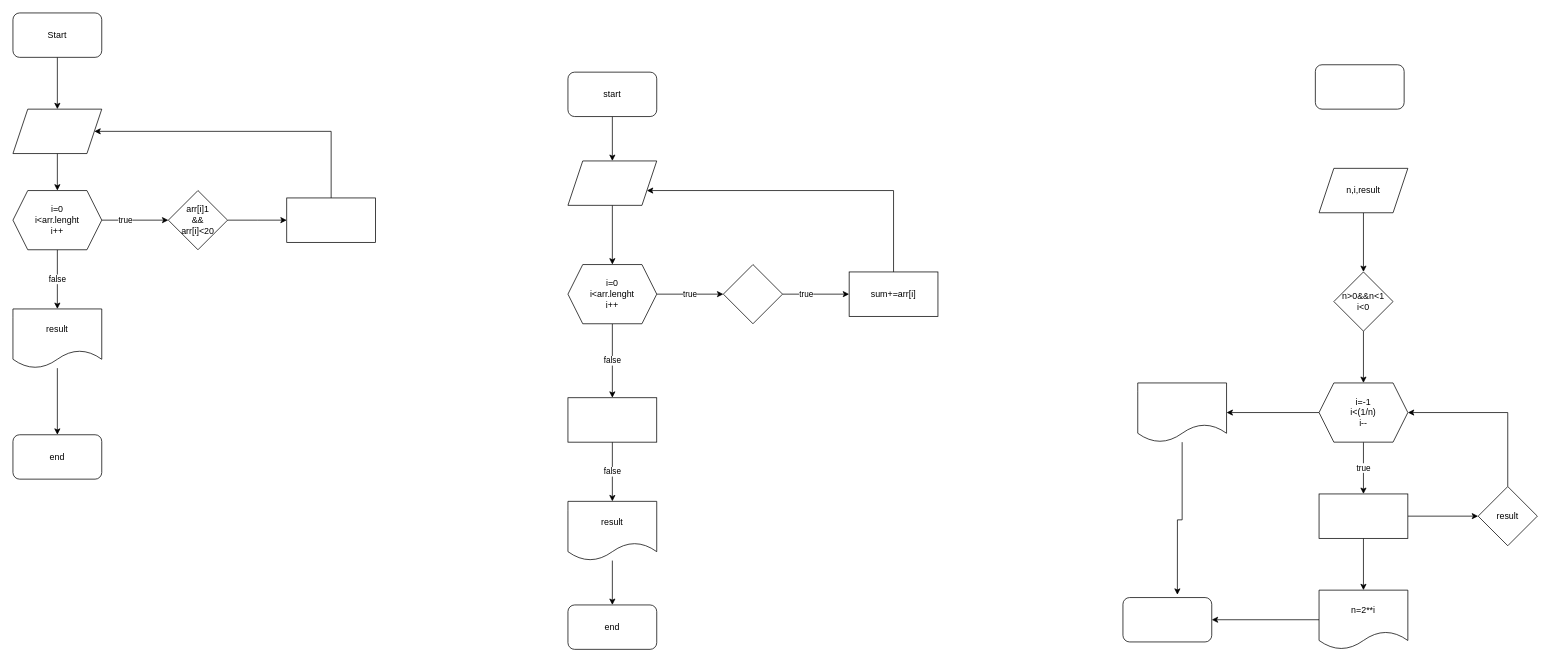
Some shapes in this 1550 by 662 pixel diagram are drawn without their labels. Here are the shapes that lost their labels. From the top down, the box of each, then its label:
(12, 108, 102, 154): int[i],result=1
(567, 160, 657, 205): arr,sum=0,result=0
(286, 197, 376, 242): result*=arr[i]
(723, 264, 783, 324): arr[i]==0
(567, 397, 657, 442): result=sum**2
(1137, 382, 1227, 442): n!=2**i
(1318, 493, 1408, 538): result=2**i
